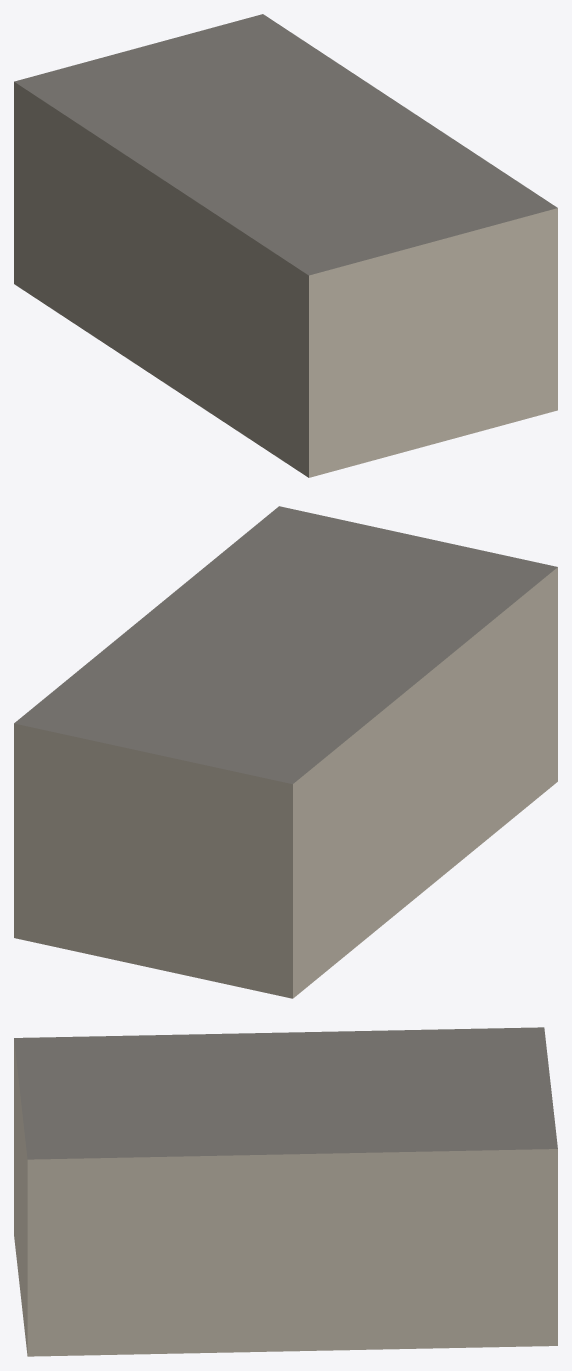
3 renders of one model, top to bottom at view 1: azimuth 30°, elevation 25°; view 2: azimuth 150°, elevation 25°; view 3: azimuth 270°, elevation 25°, orthographic. The views are drawn at different scales.
Parts seen in each view (by area): view 1: HP-w1200814971; view 2: HP-w1200814971; view 3: HP-w1200814971.
Part boxes in pixels (x1=…): HP-w1200814971: x1=14, y1=14, x2=557, y2=477; HP-w1200814971: x1=14, y1=506, x2=557, y2=998; HP-w1200814971: x1=14, y1=1027, x2=557, y2=1356.
Size of the model in its own units: 25.92 by 18 by 45.05.
